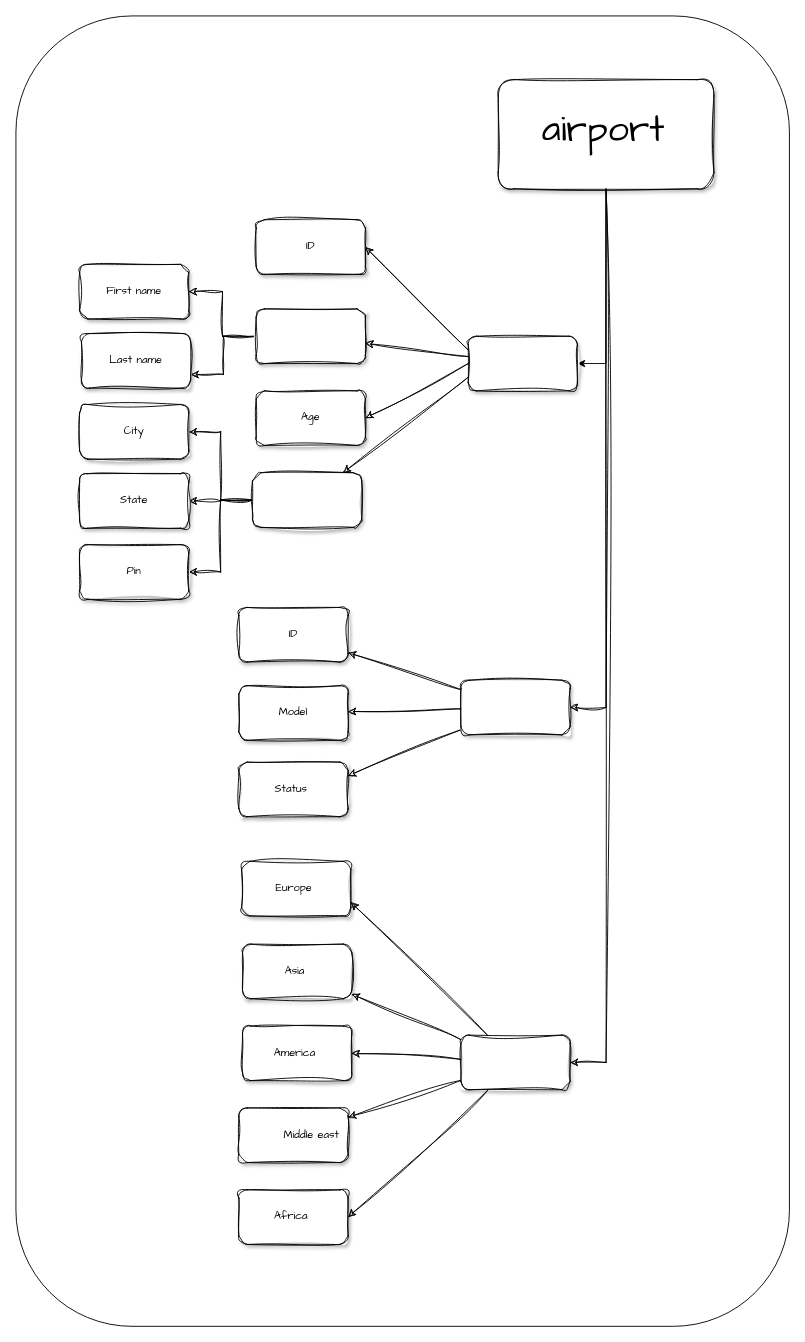
The diagram is 805 pixels wide and 1342 high, and some of its shapes have lost their labels. Each missing label, with the centre of its shape:
"address" goes at (307,501).
"Destinations" goes at (516,1063).
"Name" goes at (311,337).
"Pilot's" goes at (523,364).
"Plains" goes at (516,708).
